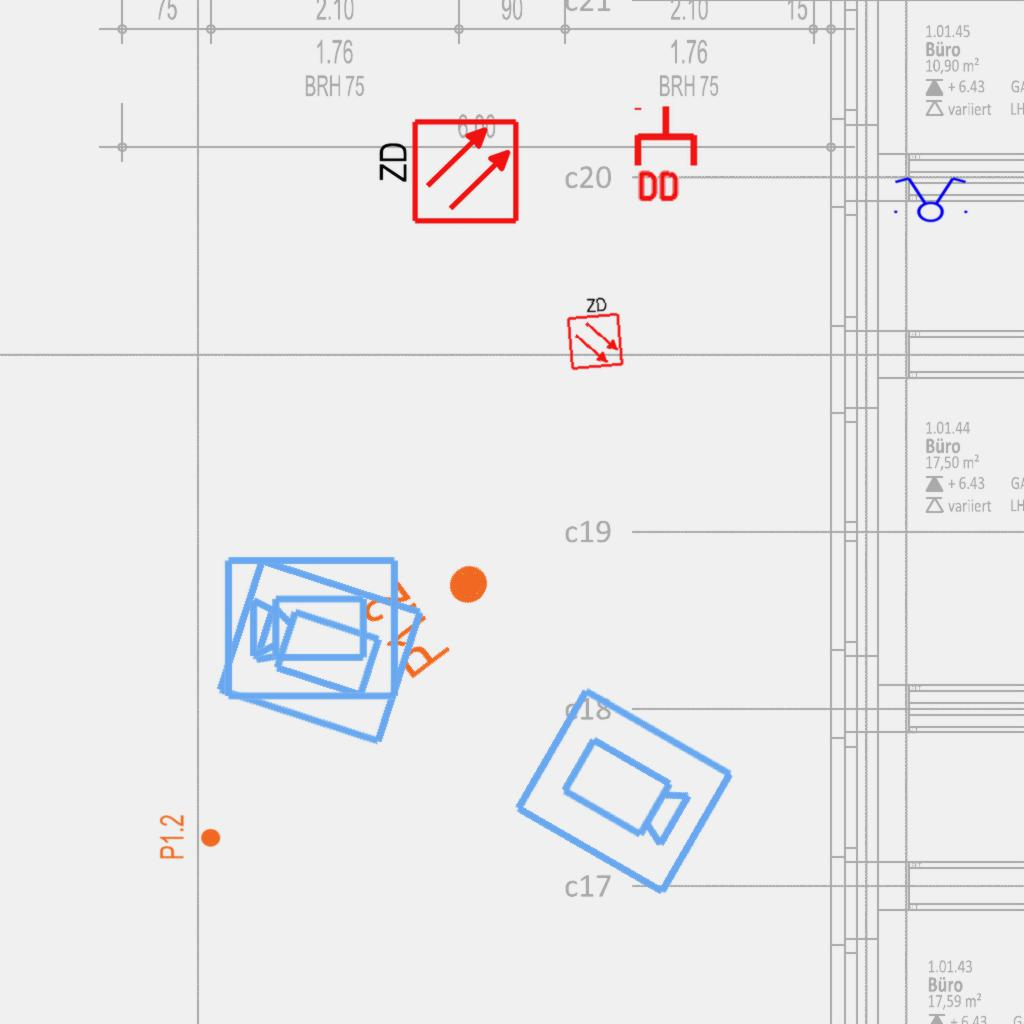Datenanschluss_zweifach: (633, 103, 702, 206)
Downlight_LED_Einbauleuchten_Flur: (355, 532, 514, 684), (158, 814, 222, 860)
KFO_Kamera_mit_Festobjektiv: (505, 679, 741, 905), (210, 548, 432, 752), (221, 550, 403, 704)
Serienschalter: (888, 175, 972, 223)
ZD_Melder_in_Zwischendecke_mit_Revisionsoeffnung_mind_40_x_40_cm: (372, 116, 521, 230), (561, 292, 626, 372)
